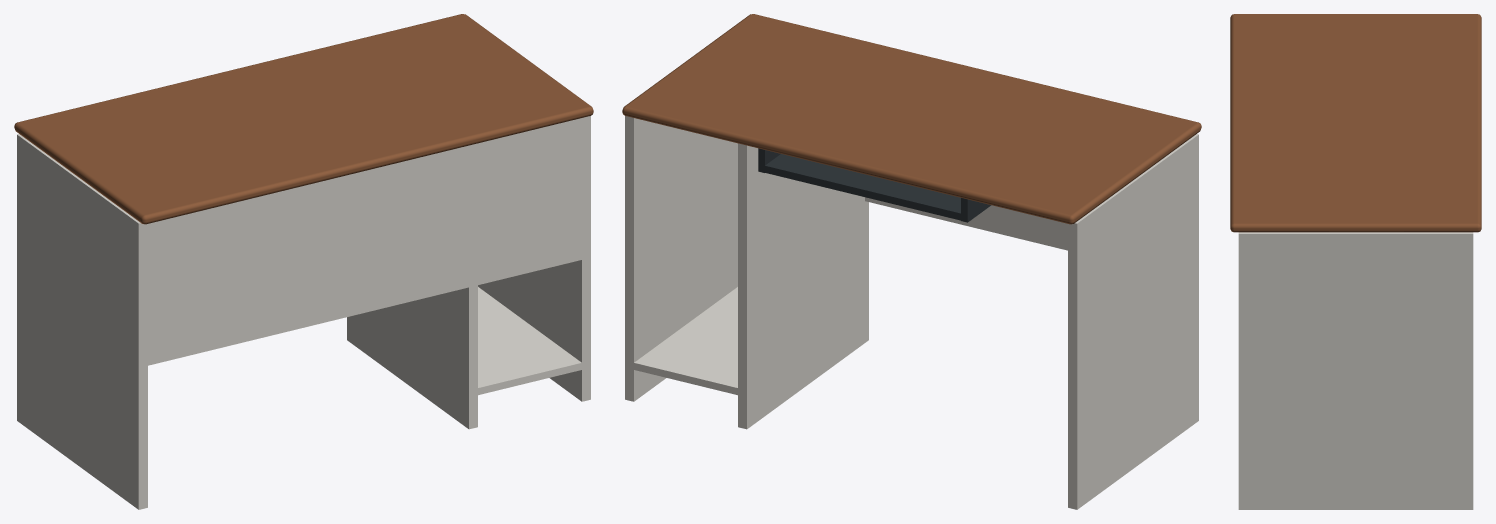
3 views of the same model, side by side, from view 1: azimuth 30°, elevation 25°; view 2: azimuth 150°, elevation 25°; view 3: azimuth 270°, elevation 25° (orthographic). The views are drawn at different scales.
Visible parts, largest first — view 1: panel-left, top; view 2: panel-left, top, tray; view 3: panel-left, top.
Boxes of the visible parts, bbox=[...] form: panel-left: bbox=[17, 116, 590, 509]; top: bbox=[14, 14, 593, 224]; panel-left: bbox=[625, 116, 1198, 509]; top: bbox=[622, 14, 1201, 224]; tray: bbox=[758, 148, 991, 222]; panel-left: bbox=[1238, 232, 1473, 509]; top: bbox=[1230, 14, 1481, 232].
Size of the model in its own units: 1.2 by 0.75 by 0.6.
